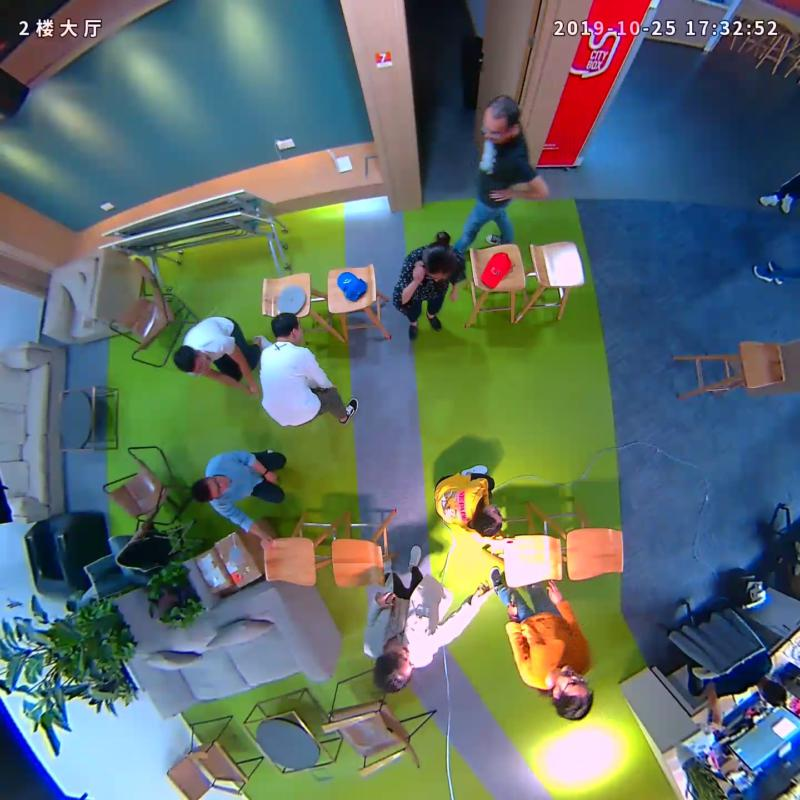head: (547, 663, 598, 730), (471, 93, 526, 148), (415, 231, 470, 283), (368, 645, 419, 700), (185, 466, 232, 508), (164, 342, 211, 383), (467, 501, 509, 546), (264, 309, 312, 344)
